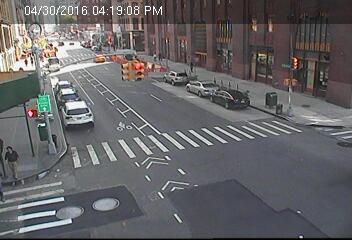neg: (145, 162, 167, 191), (275, 149, 296, 176), (92, 175, 113, 202), (309, 75, 329, 102), (154, 113, 173, 139), (249, 178, 267, 203), (222, 33, 240, 56), (311, 122, 325, 141), (103, 61, 116, 79), (262, 88, 275, 106), (102, 118, 115, 135), (276, 22, 288, 39), (194, 118, 205, 132), (77, 91, 87, 105), (224, 94, 234, 107), (217, 166, 227, 179), (67, 56, 76, 68), (218, 205, 227, 217)
pos: (184, 58, 196, 75), (148, 48, 159, 62), (25, 51, 35, 66), (155, 49, 163, 61), (20, 56, 28, 66)
